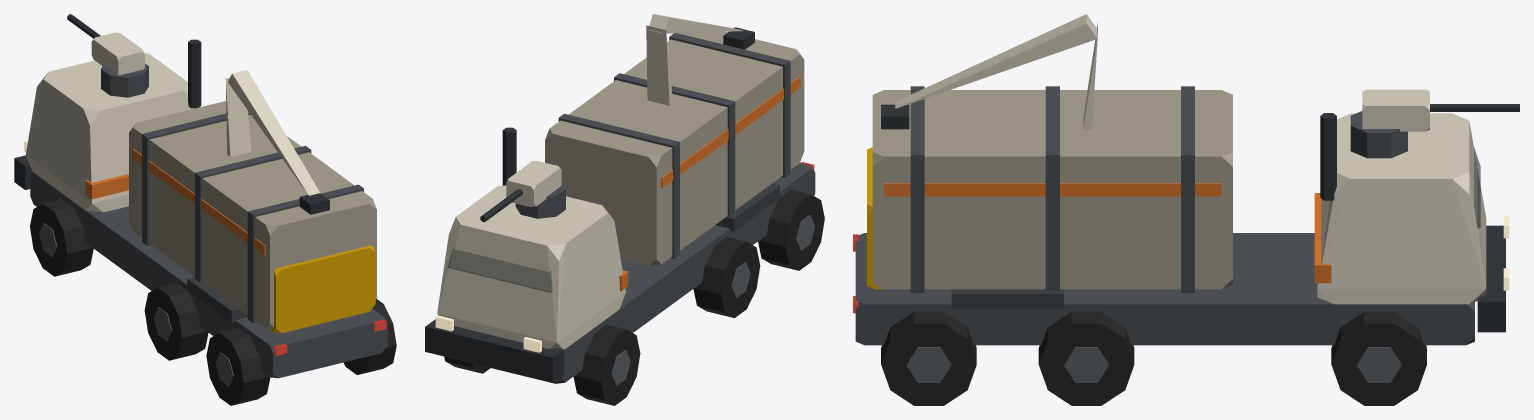
Rendered from hum_gnd_hauler.glb.
3 views of the same model, side by side, from view 1: azimuth 30°, elevation 25°; view 2: azimuth 150°, elevation 25°; view 3: azimuth 270°, elevation 25° (orthographic). The views are drawn at different scales.
Parts seen in each view (by area): view 1: chassis, pod, engineer, gun; view 2: chassis, pod, engineer, gun, hauler_lights; view 3: chassis, pod, engineer, gun.
Boxes of the visible parts, left/top/right/bottom form: chassis: left=14, top=39, right=396, bottom=405; pod: left=129, top=101, right=376, bottom=329; engineer: left=225, top=70, right=375, bottom=333; gun: left=67, top=14, right=148, bottom=97; chassis: left=425, top=127, right=824, bottom=405; pod: left=545, top=31, right=804, bottom=265; engineer: left=646, top=14, right=754, bottom=105; gun: left=480, top=161, right=565, bottom=222; hauler_lights: left=435, top=162, right=814, bottom=352; chassis: left=855, top=113, right=1505, bottom=405; pod: left=872, top=86, right=1232, bottom=292; engineer: left=867, top=14, right=1097, bottom=289; gun: left=1350, top=89, right=1519, bottom=158.
Size of the model in its own units: 4.04 by 6.66 by 11.85.
3 materials, 3 textured.
